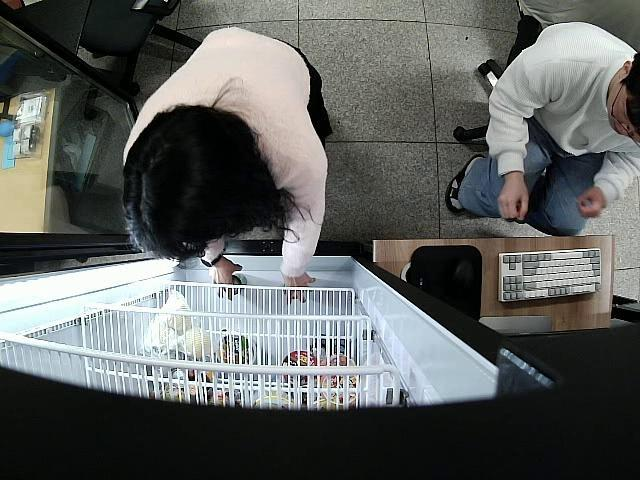12_chilsungCider: (234, 272, 248, 294)
